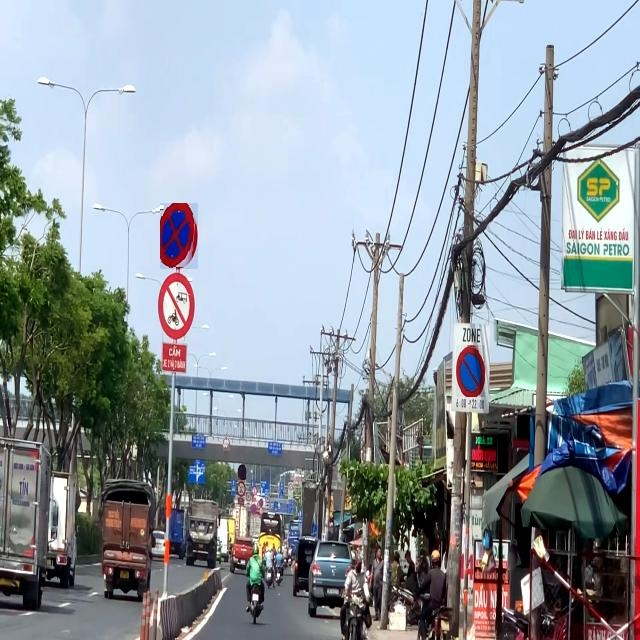bien_cam: (160, 203, 198, 270), (456, 345, 485, 397), (238, 464, 246, 480), (223, 439, 230, 452)
